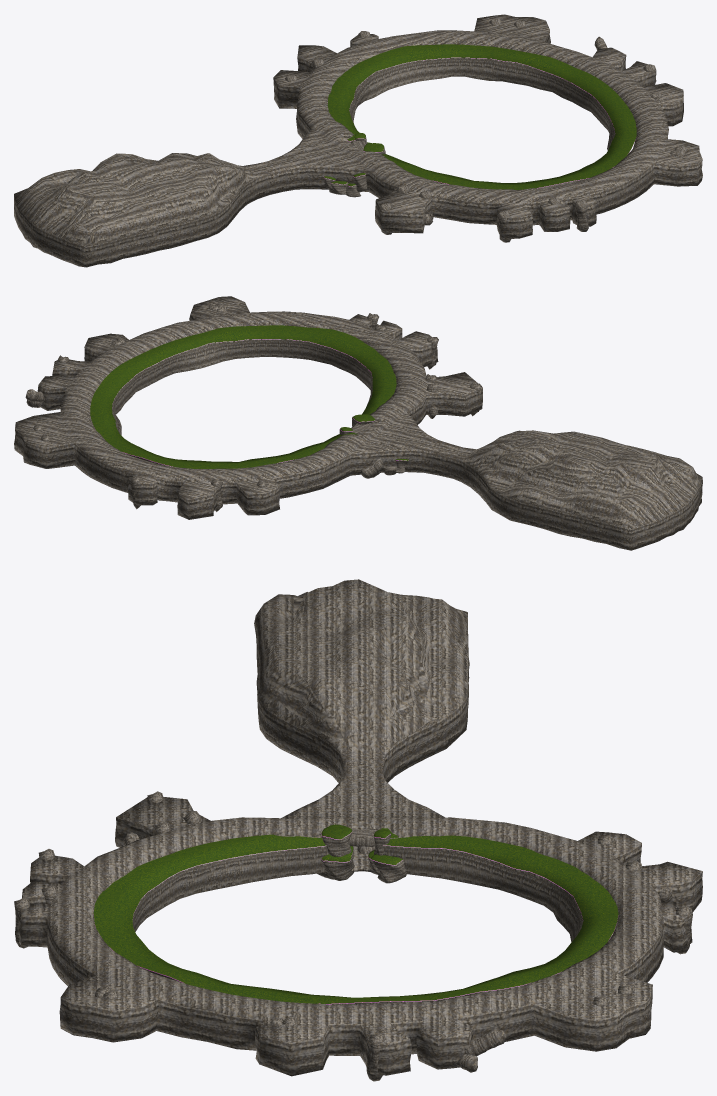
The model's file is Cave.glb.
3 views of the same model, one above another, from view 1: azimuth 30°, elevation 25°; view 2: azimuth 150°, elevation 25°; view 3: azimuth 270°, elevation 25° (orthographic). The views are drawn at different scales.
Parts seen in each view (by area): view 1: Cave; view 2: Cave; view 3: Cave.
Part boxes in pixels (bbox=[...]): Cave: bbox=[14, 14, 702, 267]; Cave: bbox=[14, 296, 702, 550]; Cave: bbox=[14, 579, 702, 1081].
Size of what is drawn, in the model's own units: 303 by 29.96 by 198.
Materials: 4 (3 with a texture image).
